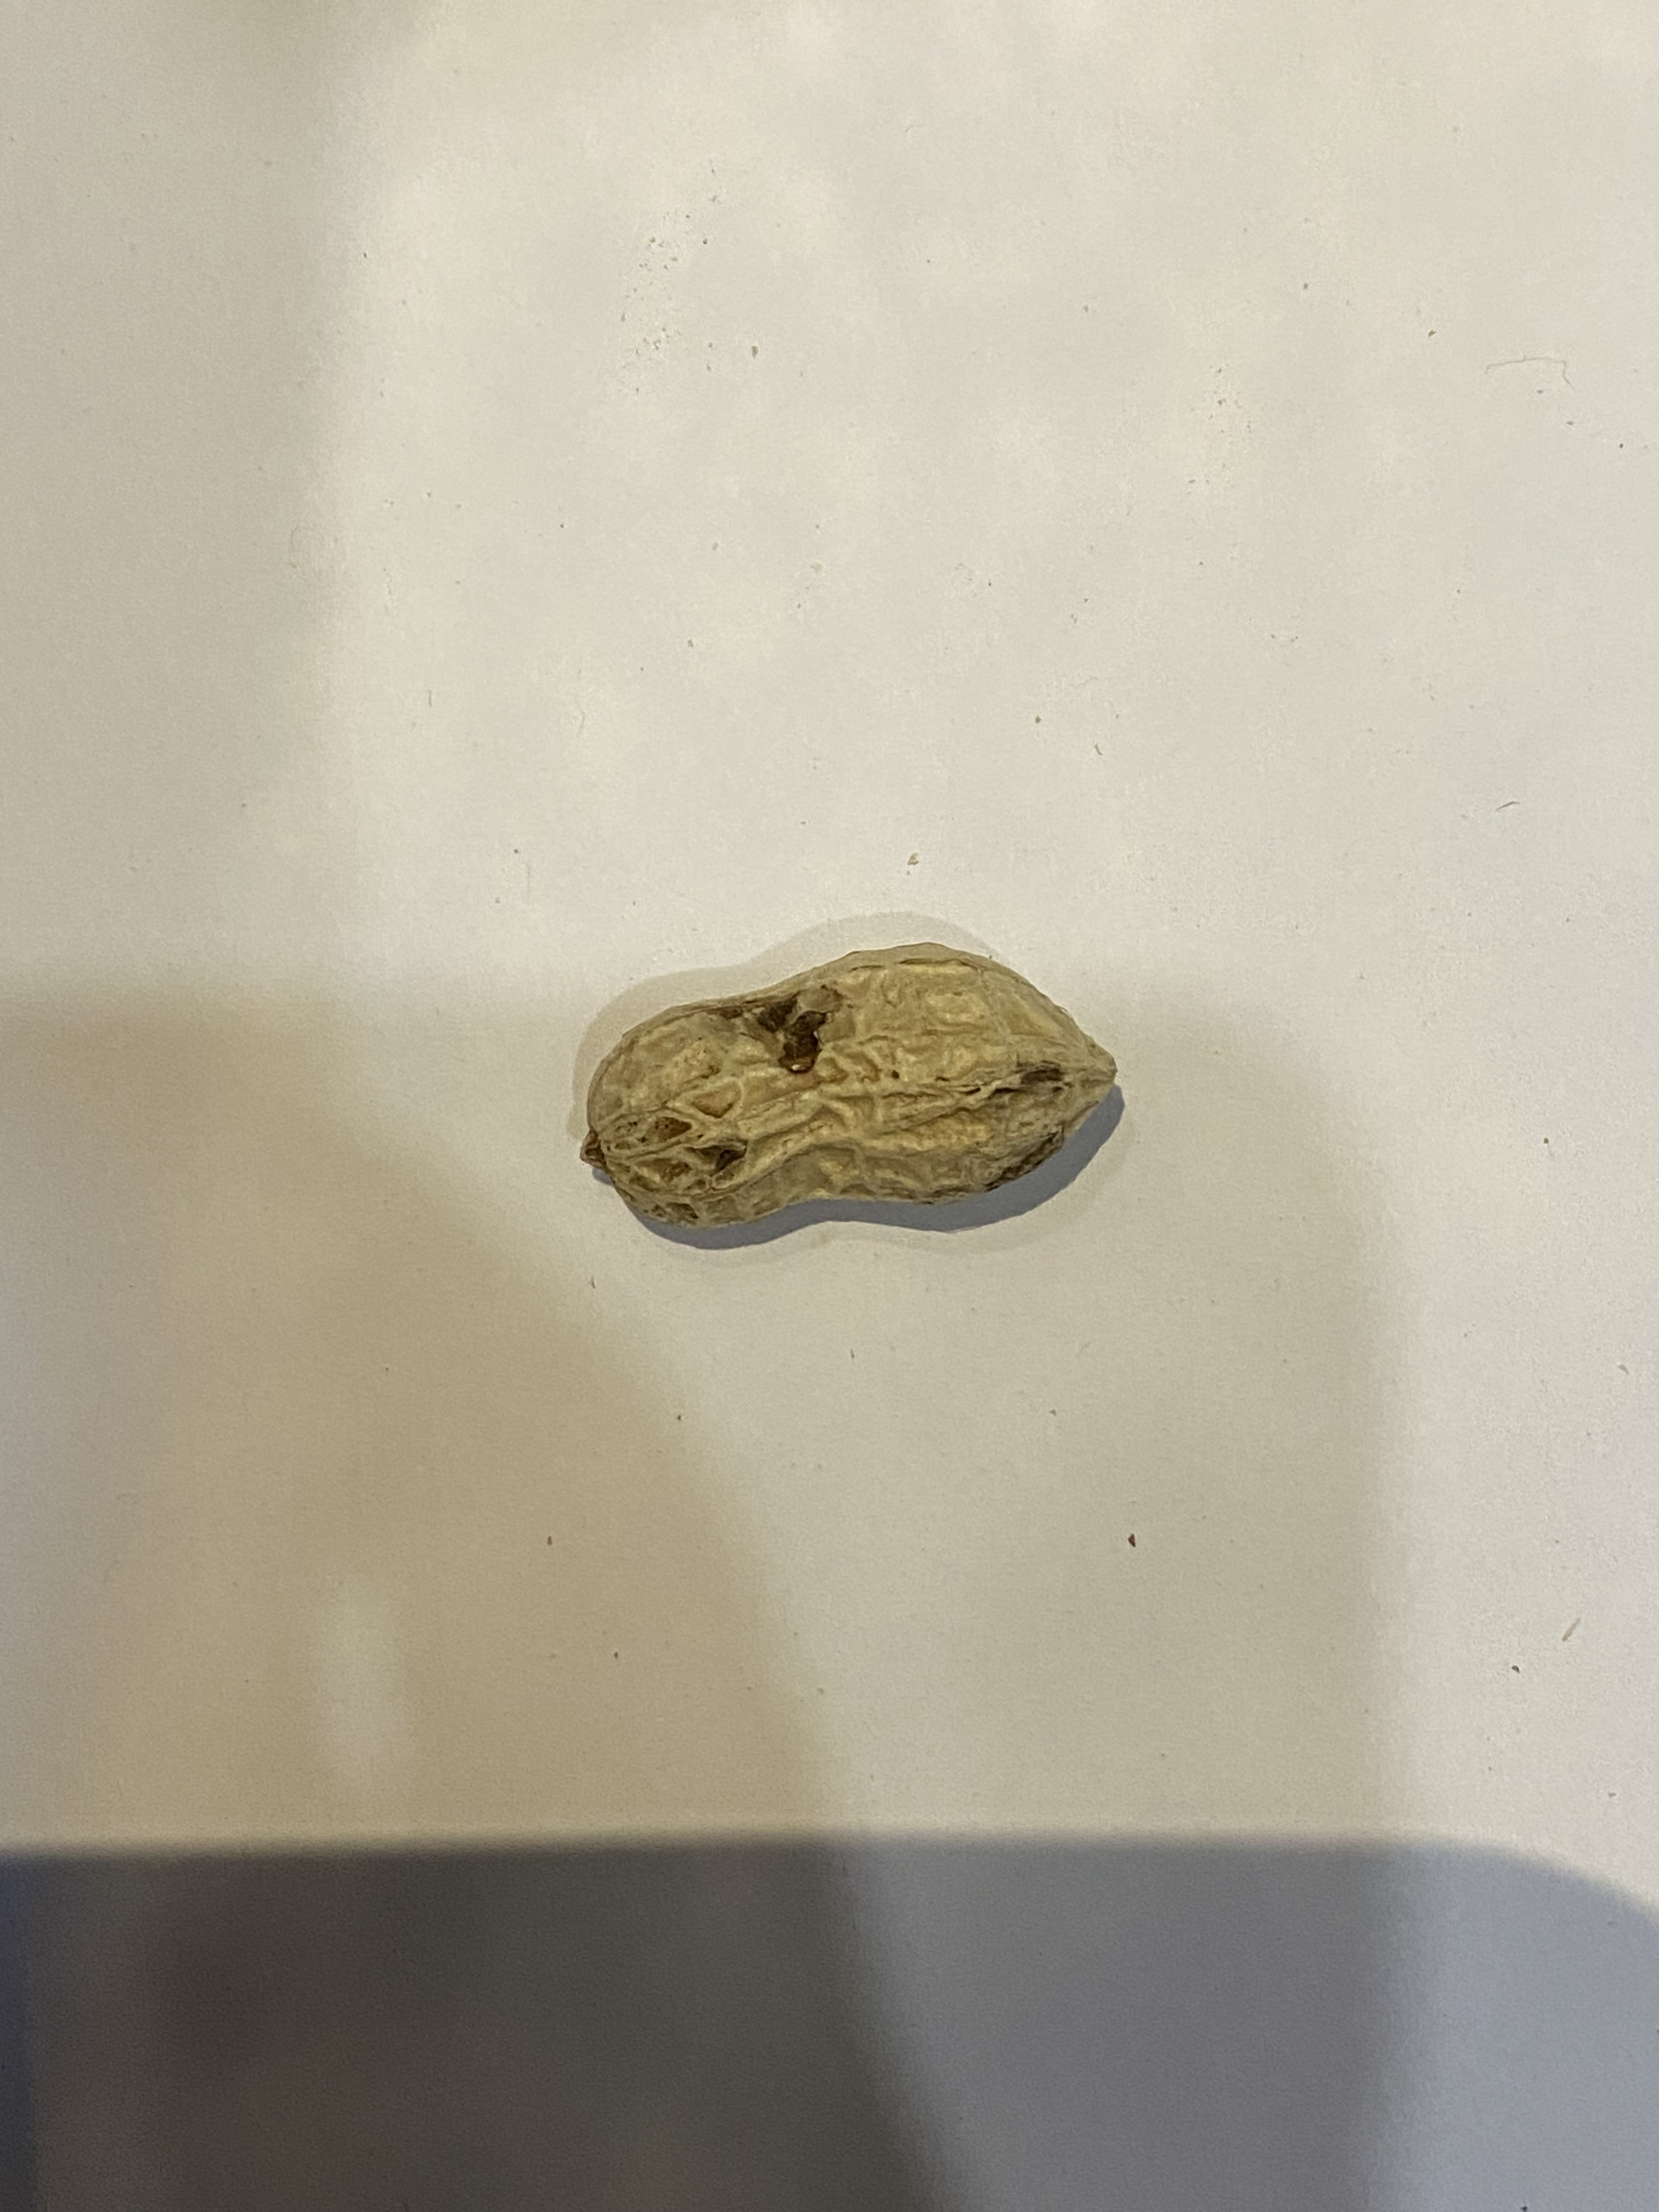kacang2: (538, 907, 1161, 1240)
